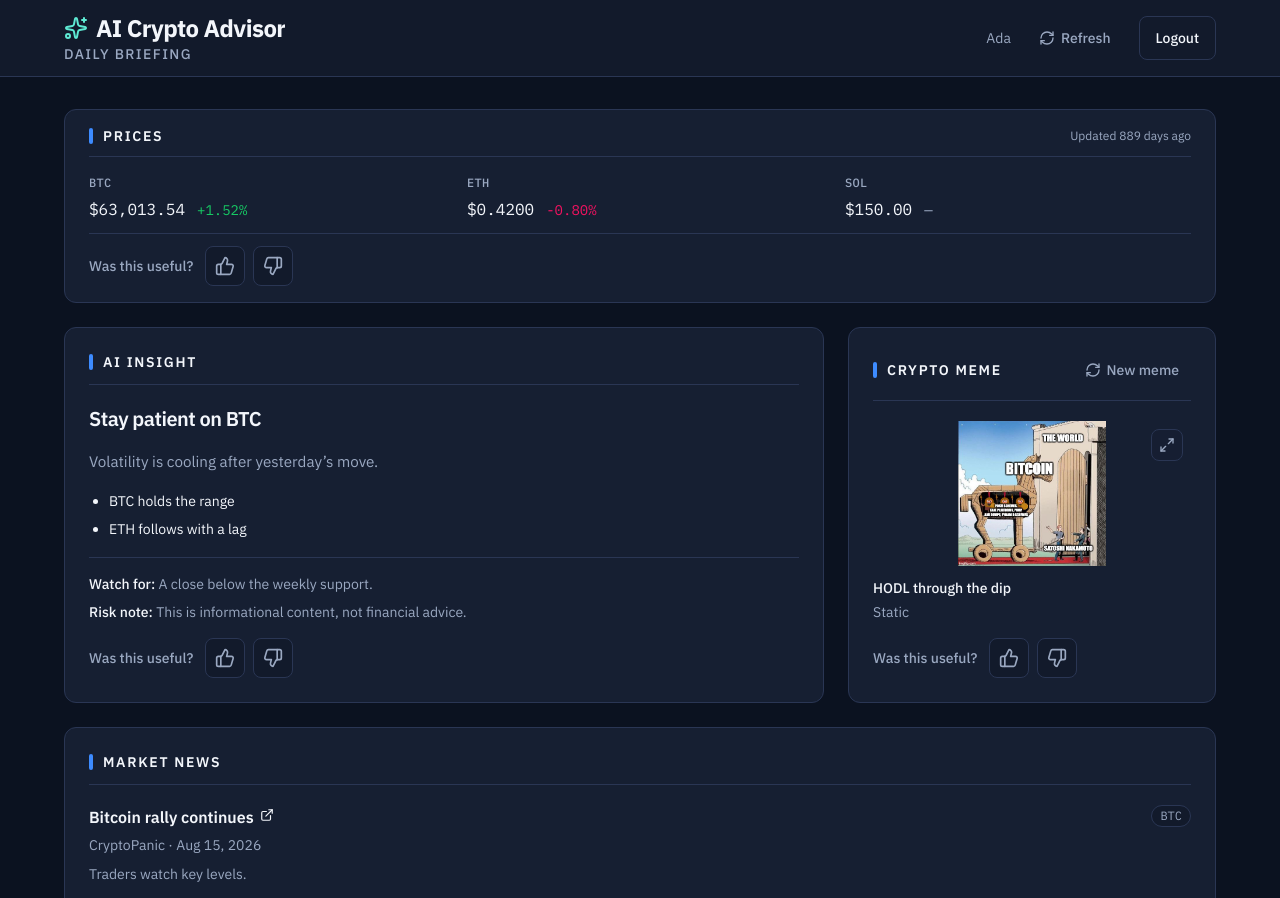
Test: meme › requests a new meme without refetching the other sections
Check: the picture named "HODL through the dip" is shown, box [873,421,1191,566]
Click the button "New meme" at (1132, 370), box [1073,352,1191,388]
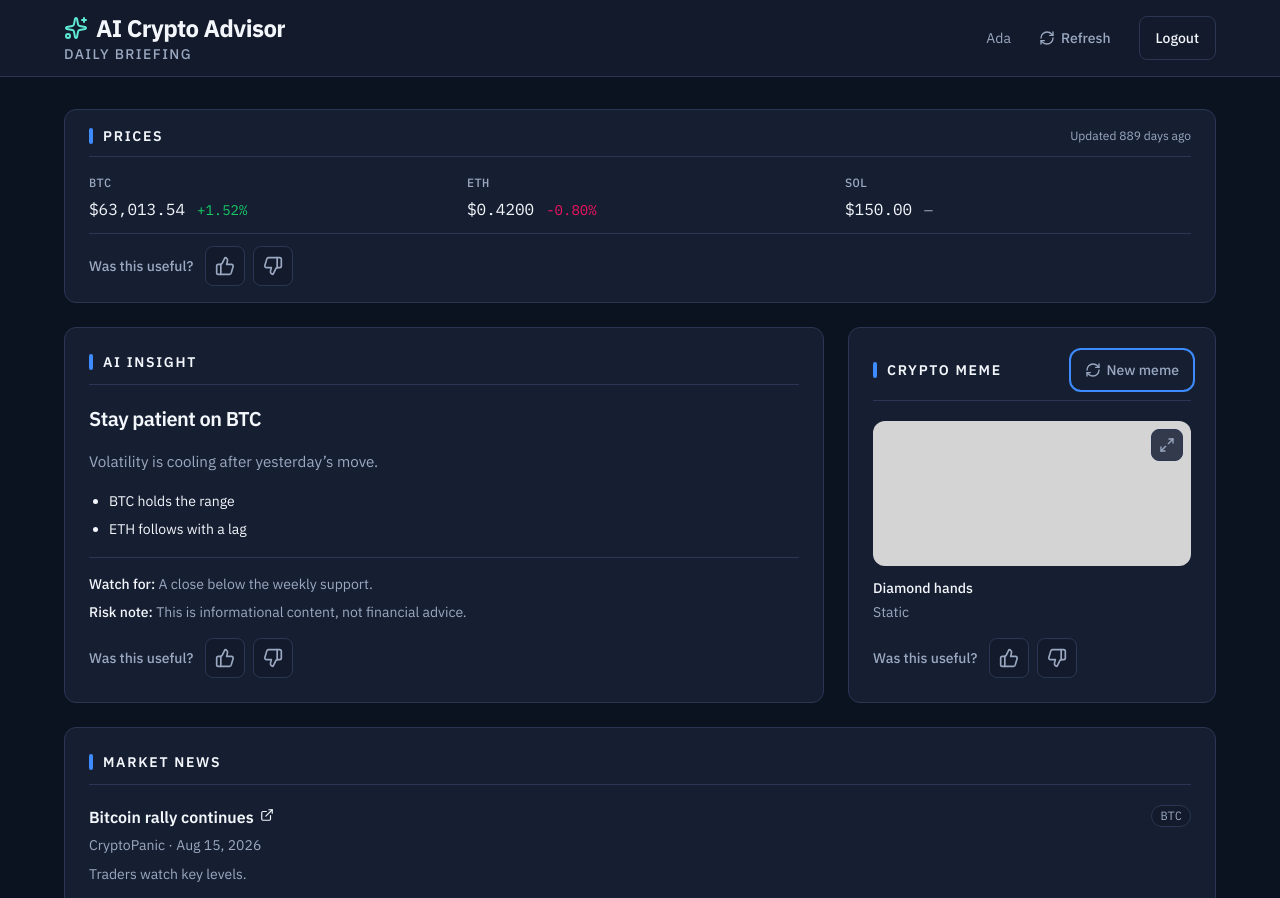
Check: the text "HODL through the dip" is gone
